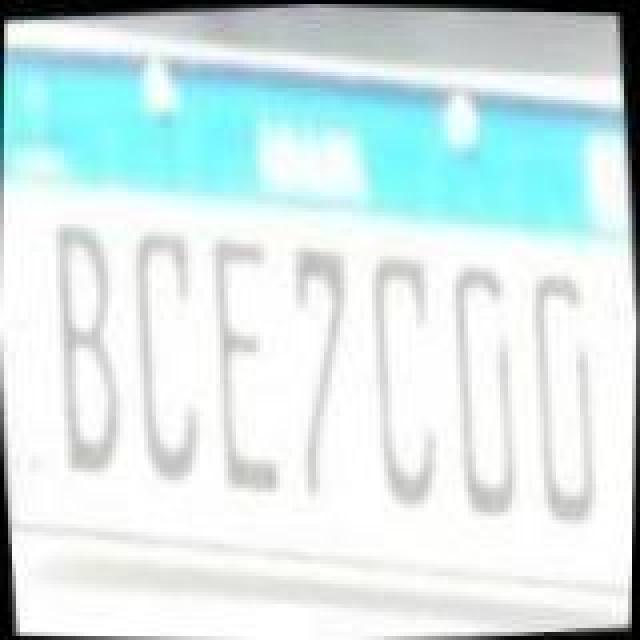7: (282, 238, 370, 506)
B: (46, 218, 134, 474)
C: (122, 220, 210, 484), (362, 246, 450, 510)
D: (442, 254, 526, 522), (522, 266, 606, 522)
E: (202, 228, 290, 500)
